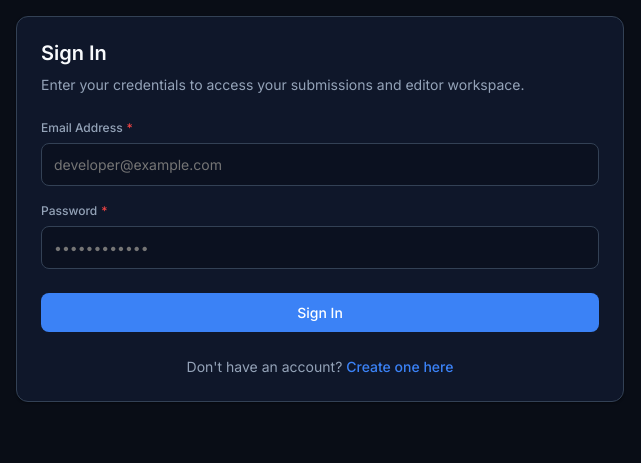
it: LoginPage › performs client-side required validation and displays errors
Click the button "Sign In". click: (320, 312)
box: [41,293,599,332]
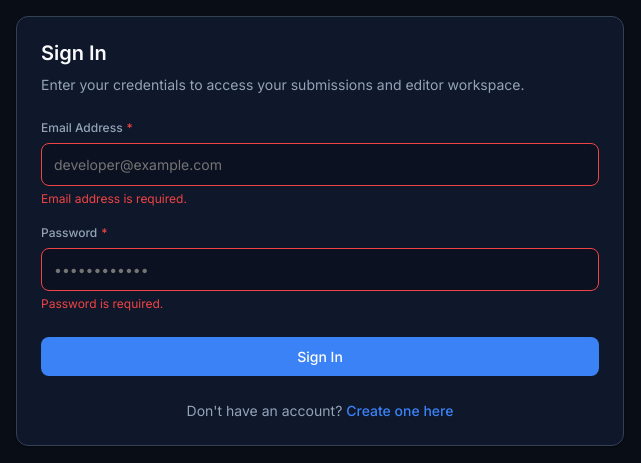
Result: the text "Email address is required." is shown at [41,191,187,206]
Result: the text "Password is required." is shown at [41,296,163,311]
